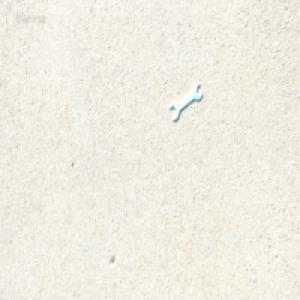Wrench: (169, 84, 201, 121)
